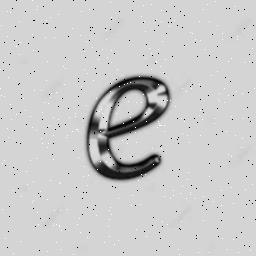e: (76, 72, 178, 190)
